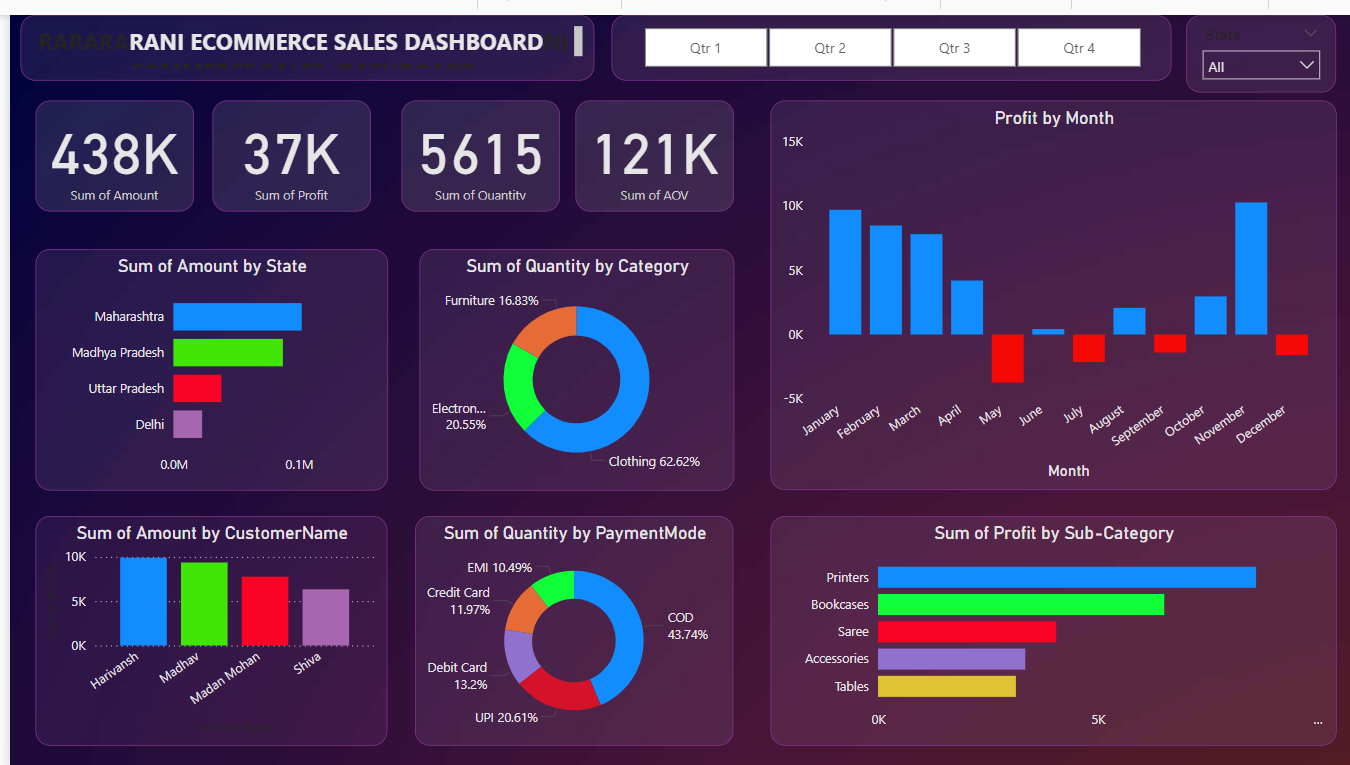

The dashboard page shown, as its layout file describes it:
{"tool":"powerbi","page":{"name":"Page 1","canvas":[1280,720],"ordinal":0},"visuals":[{"type":"textbox","box":[9.4,0,548,62.4],"z":0},{"type":"columnChart","title":"Profit by Month","fields":{"Y":["Details.Profit"],"Category":["Orders.Order Date.Variation.Date Hierarchy.Month"]},"box":[725.7,81.3,540.5,372.3],"z":1000},{"type":"barChart","fields":{"Category":["Details.Sub-Category"],"Y":["Details.Profit"]},"box":[725.7,478.1,540.5,219.2],"z":2000},{"type":"donutChart","fields":{"Y":["Details.Quantity"],"Category":["Details.PaymentMode"]},"box":[387.4,478.1,304.3,219.2],"z":3000},{"type":"donutChart","fields":{"Category":["Details.Category"],"Y":["Details.Quantity"]},"box":[391.2,223,300.5,230.6],"z":4000},{"type":"card","fields":{"Values":["Details.Amount"]},"box":[24.6,81.3,151.2,105.8],"z":5000},{"type":"card","fields":{"Values":["Details.Profit"]},"box":[192.8,81.3,151.2,105.8],"z":6000},{"type":"card","fields":{"Values":["Details.Quantity"]},"box":[374.2,81.3,151.2,105.8],"z":7000},{"type":"card","fields":{"Values":["Details.AOV"]},"box":[540.5,81.3,151.2,105.8],"z":8000},{"type":"barChart","fields":{"Category":["Orders.State"],"Y":["Details.Amount"]},"box":[24.6,223,336.4,230.6],"z":9000},{"type":"columnChart","fields":{"Category":["Orders.CustomerName"],"Y":["Details.Amount"]},"box":[25,478,336,219],"z":10000},{"type":"slicer","fields":{"Values":["Orders.Order Date.Variation.Date Hierarchy.Quarter"]},"box":[574.5,0,534.8,62.4],"z":11000},{"type":"slicer","fields":{"Values":["Orders.State"]},"box":[1122.5,0,143.6,73.7],"z":11001}]}

Visuals, with their boxes in screenshot pixels (x1, y1, x2, y2), scaled from the page's 1280x720 canvas onto the 1350x765 screenshot:
textbox: bbox(10, 0, 588, 66)
"Profit by Month" columnChart: bbox(765, 86, 1335, 482)
barChart - Details.Sub-Category x Details.Profit: bbox(765, 508, 1335, 741)
donutChart - Details.Quantity x Details.PaymentMode: bbox(409, 508, 730, 741)
donutChart - Details.Category x Details.Quantity: bbox(413, 237, 730, 482)
card - Details.Amount: bbox(26, 86, 185, 199)
card - Details.Profit: bbox(203, 86, 363, 199)
card - Details.Quantity: bbox(395, 86, 554, 199)
card - Details.AOV: bbox(570, 86, 730, 199)
barChart - Orders.State x Details.Amount: bbox(26, 237, 381, 482)
columnChart - Orders.CustomerName x Details.Amount: bbox(26, 508, 381, 741)
slicer - Orders.Order Date.Variation.Date Hierarchy.Quarter: bbox(606, 0, 1170, 66)
slicer - Orders.State: bbox(1184, 0, 1335, 78)
